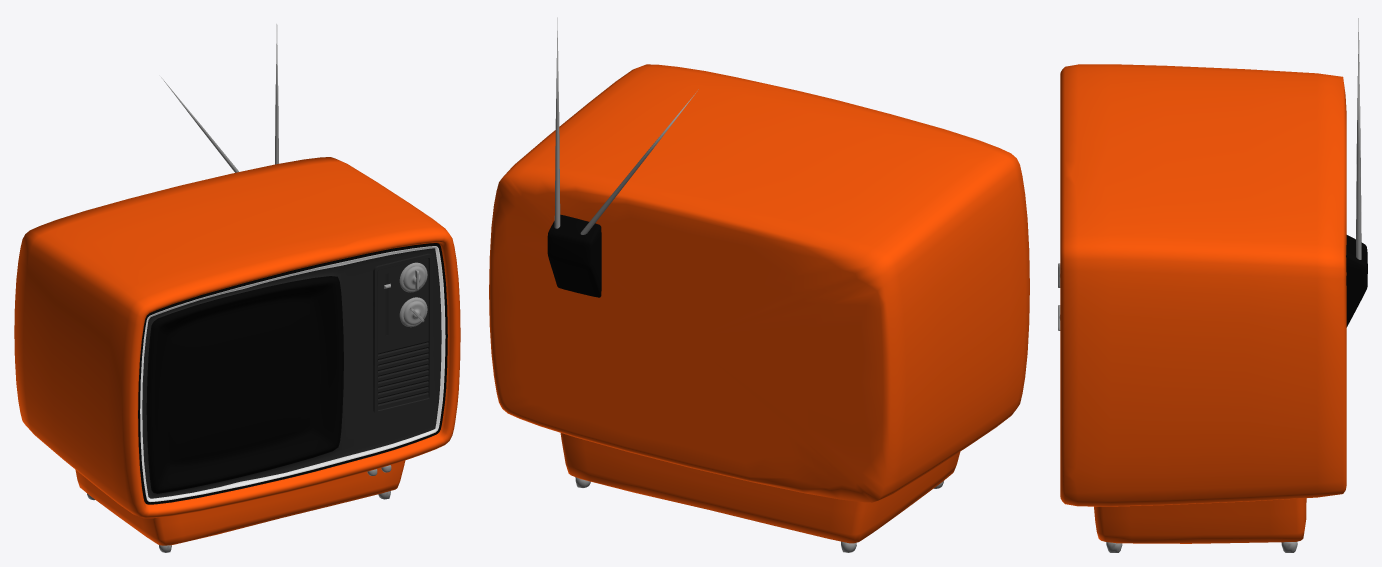
The picture shows the model from 3 angles, left to right: view 1: azimuth 30°, elevation 25°; view 2: azimuth 150°, elevation 25°; view 3: azimuth 270°, elevation 25°; orthographic projection. The views are drawn at different scales.
Parts seen in each view (by area): view 1: objRetro_TV, Object001; view 2: objRetro_TV; view 3: objRetro_TV.
Part boxes in pixels (x1,y1,x2,y2): objRetro_TV: (14,24,460,552); Object001: (373,253,432,414); objRetro_TV: (489,17,1029,552); objRetro_TV: (1058,18,1367,552).
Size of the model in its own units: 2789 by 3267 by 1828.
